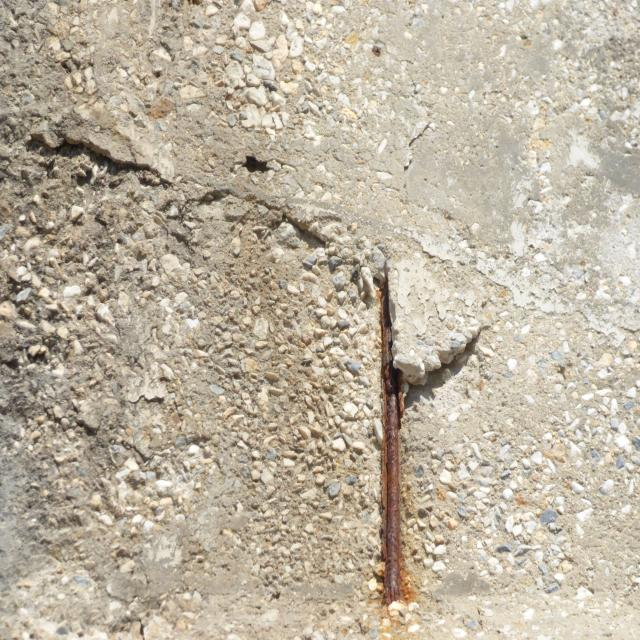corrosion: (362, 234, 474, 640)
